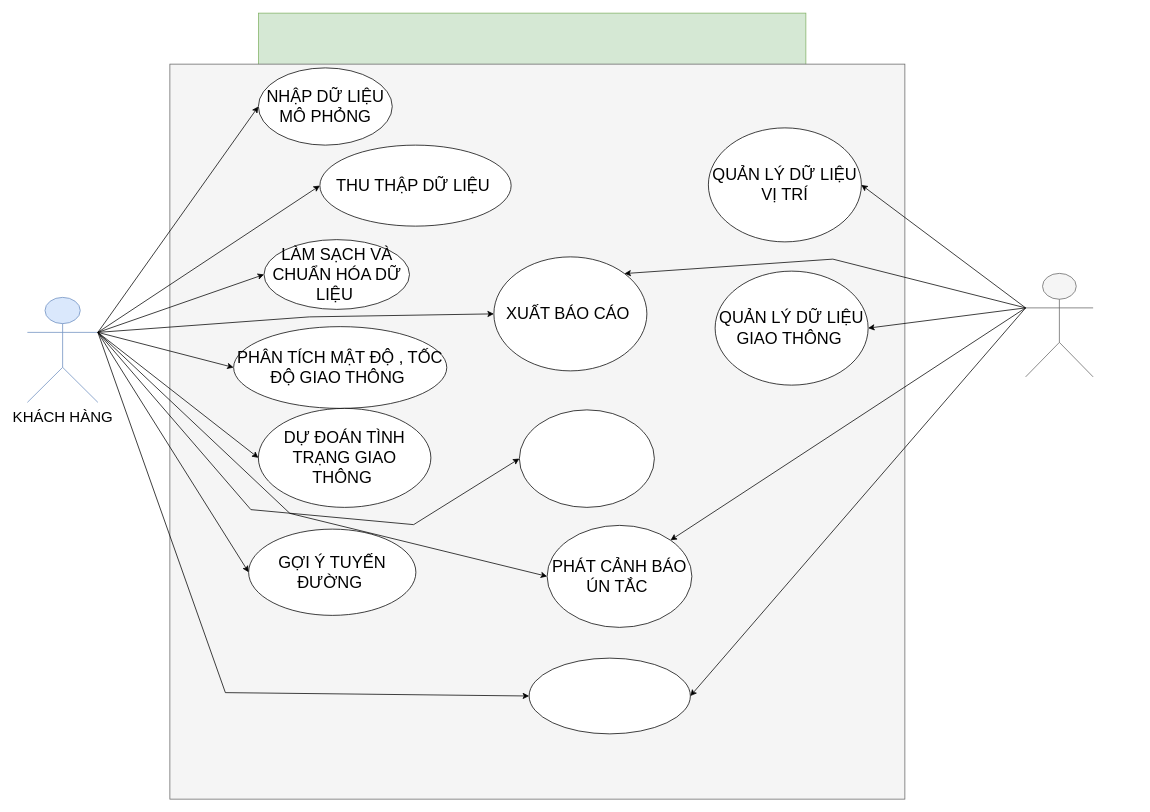
This 1150x812 diagram has some shape labels left out. Here are the shapes that lost their labels. From the top down, the centre of each, then its label:
the point at 532,39: PHẦN MỀM GIÁM SÁT VÀ PHÂN TÍCH TÌNH TRẠNG GIAO THÔNG TẠI TP.HCM
the point at 1059,325: QUẢN TRỊ HỆ THỐNG
the point at 586,458: TƯƠNG TÁC CHỌN KHU VỰC
the point at 609,695: HIỂN THỊ BẢN ĐỒ VÀ BIỂU ĐỒ
